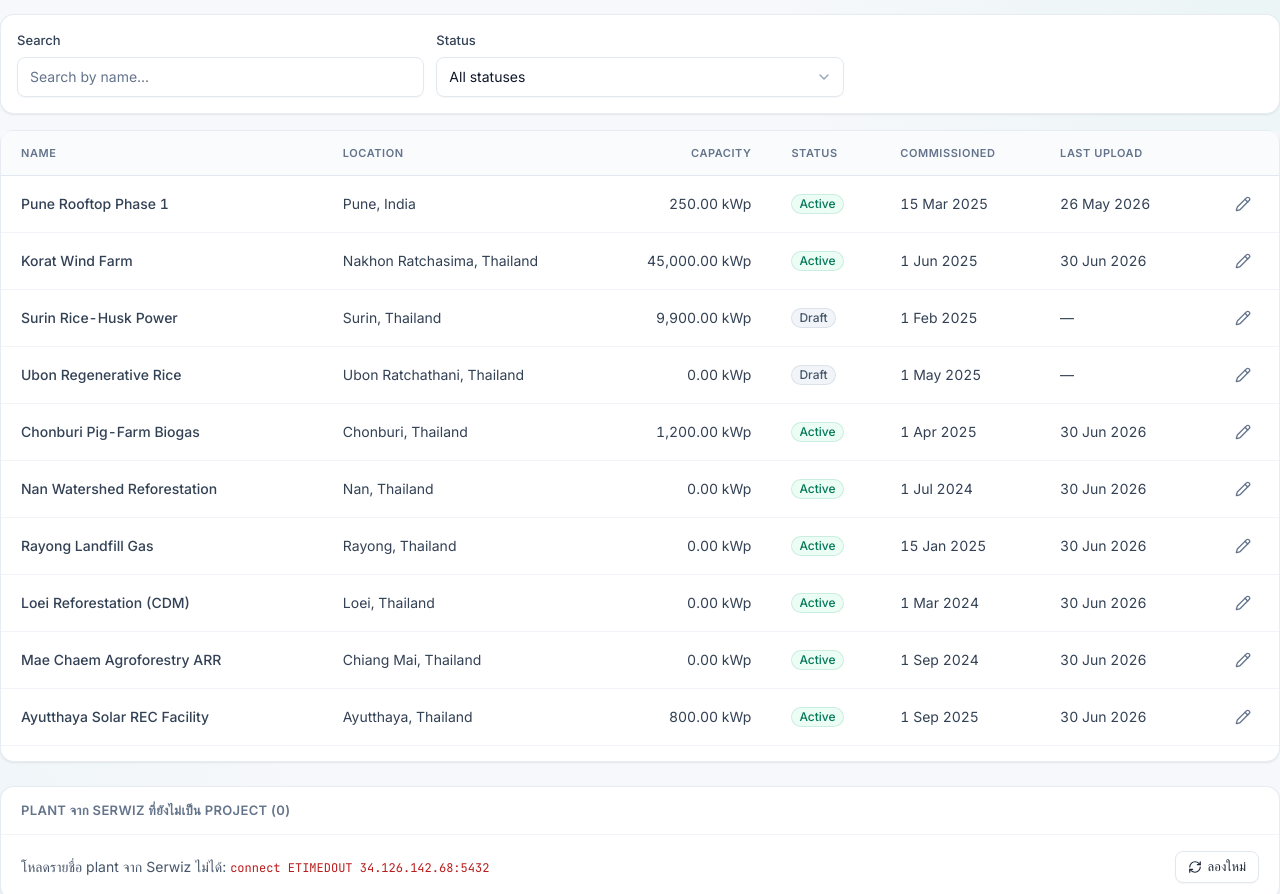
Scenario: Projects — Serwiz plants not yet in dMRV › shows the load error and retries on demand
The width and height of the screenshot is (1280, 894).
(page scrolled)
Expected: the text "connect ETIMEDOUT 34.126.142.68:5432" is shown, [230,860,489,876]
Click the button "ลองใหม่" at coordinates (1217, 867), box [1175,851,1259,883]
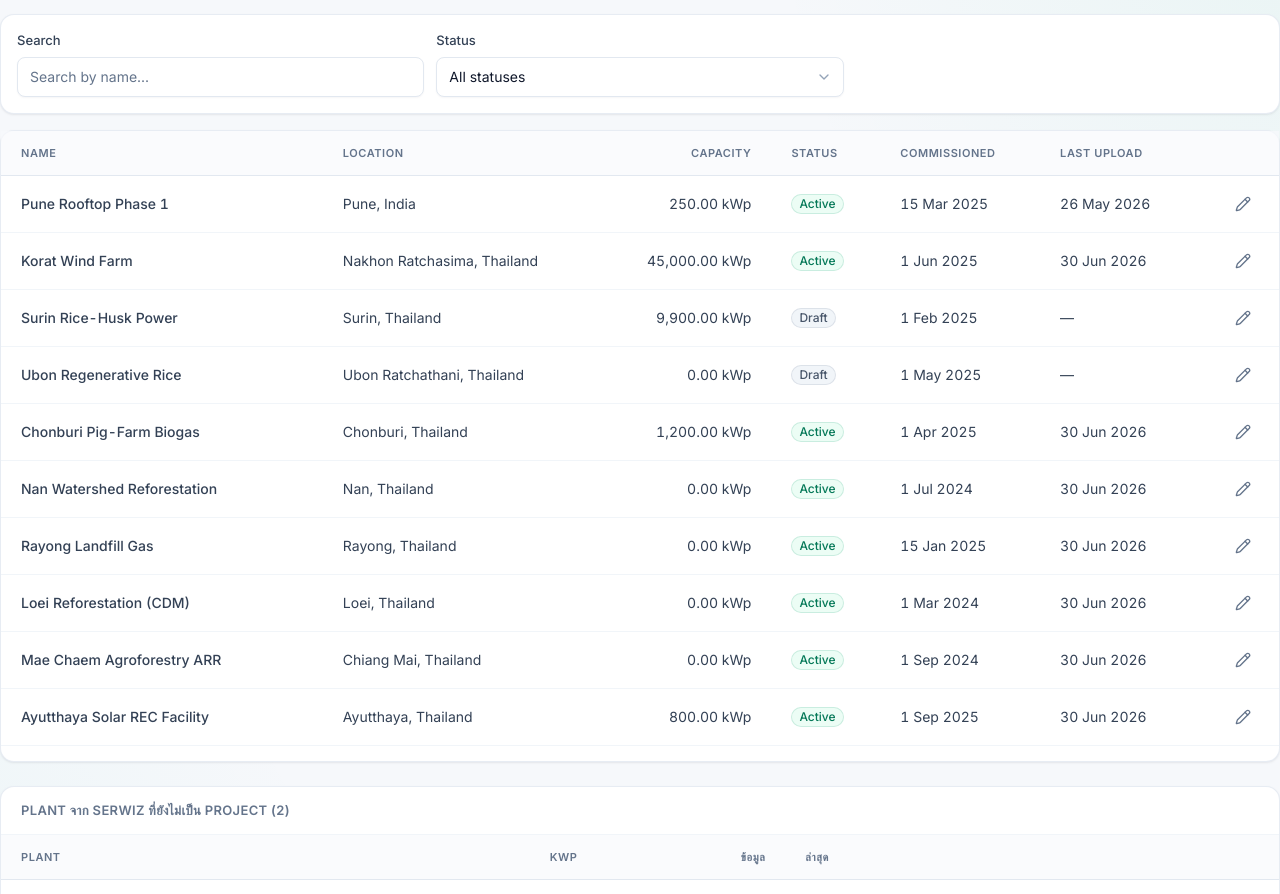
Now the heading "Plant จาก Serwiz ที่ยังไม่เป็น project (2)" is shown, box [21,800,290,820]
